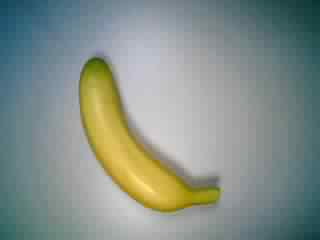banana: (73, 54, 227, 218)
